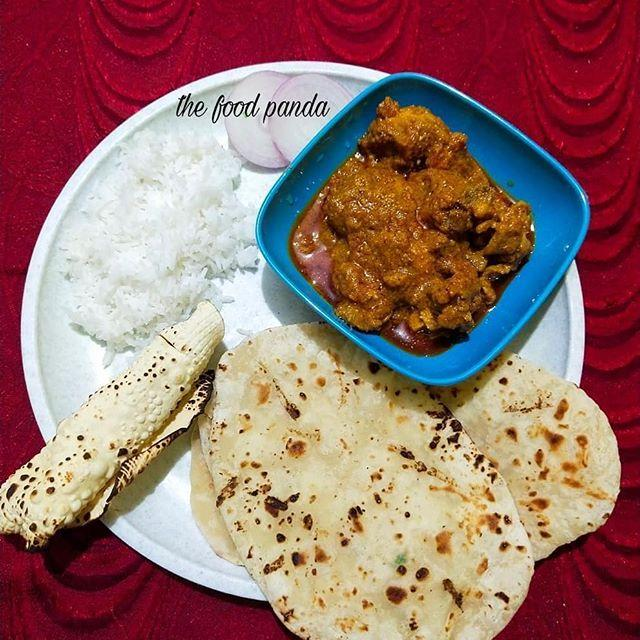Roti: (216, 319, 547, 640), (186, 378, 640, 584)
White Rice: (55, 128, 264, 336)
